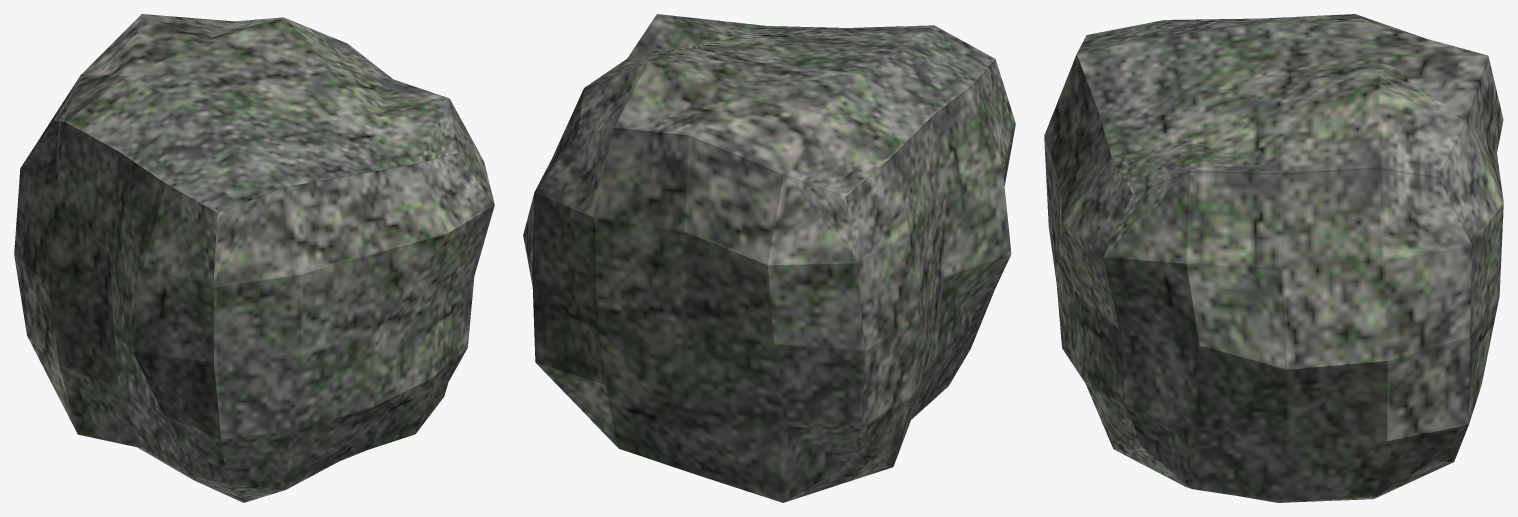
File: SM_EC_Rock_70.fbx
The picture shows the model from 3 angles, left to right: view 1: azimuth 30°, elevation 25°; view 2: azimuth 150°, elevation 25°; view 3: azimuth 270°, elevation 25°; orthographic projection. The views are drawn at different scales.
Visible parts, largest first — view 1: SM_EC_Rock_70; view 2: SM_EC_Rock_70; view 3: SM_EC_Rock_70.
Boxes of the visible parts, x1,y1,x2,y2 form: SM_EC_Rock_70: (14,14,494,502); SM_EC_Rock_70: (523,14,1015,502); SM_EC_Rock_70: (1044,14,1503,502).
Bounding box in the file's own units: 1.17 × 1.1 × 1.13.
